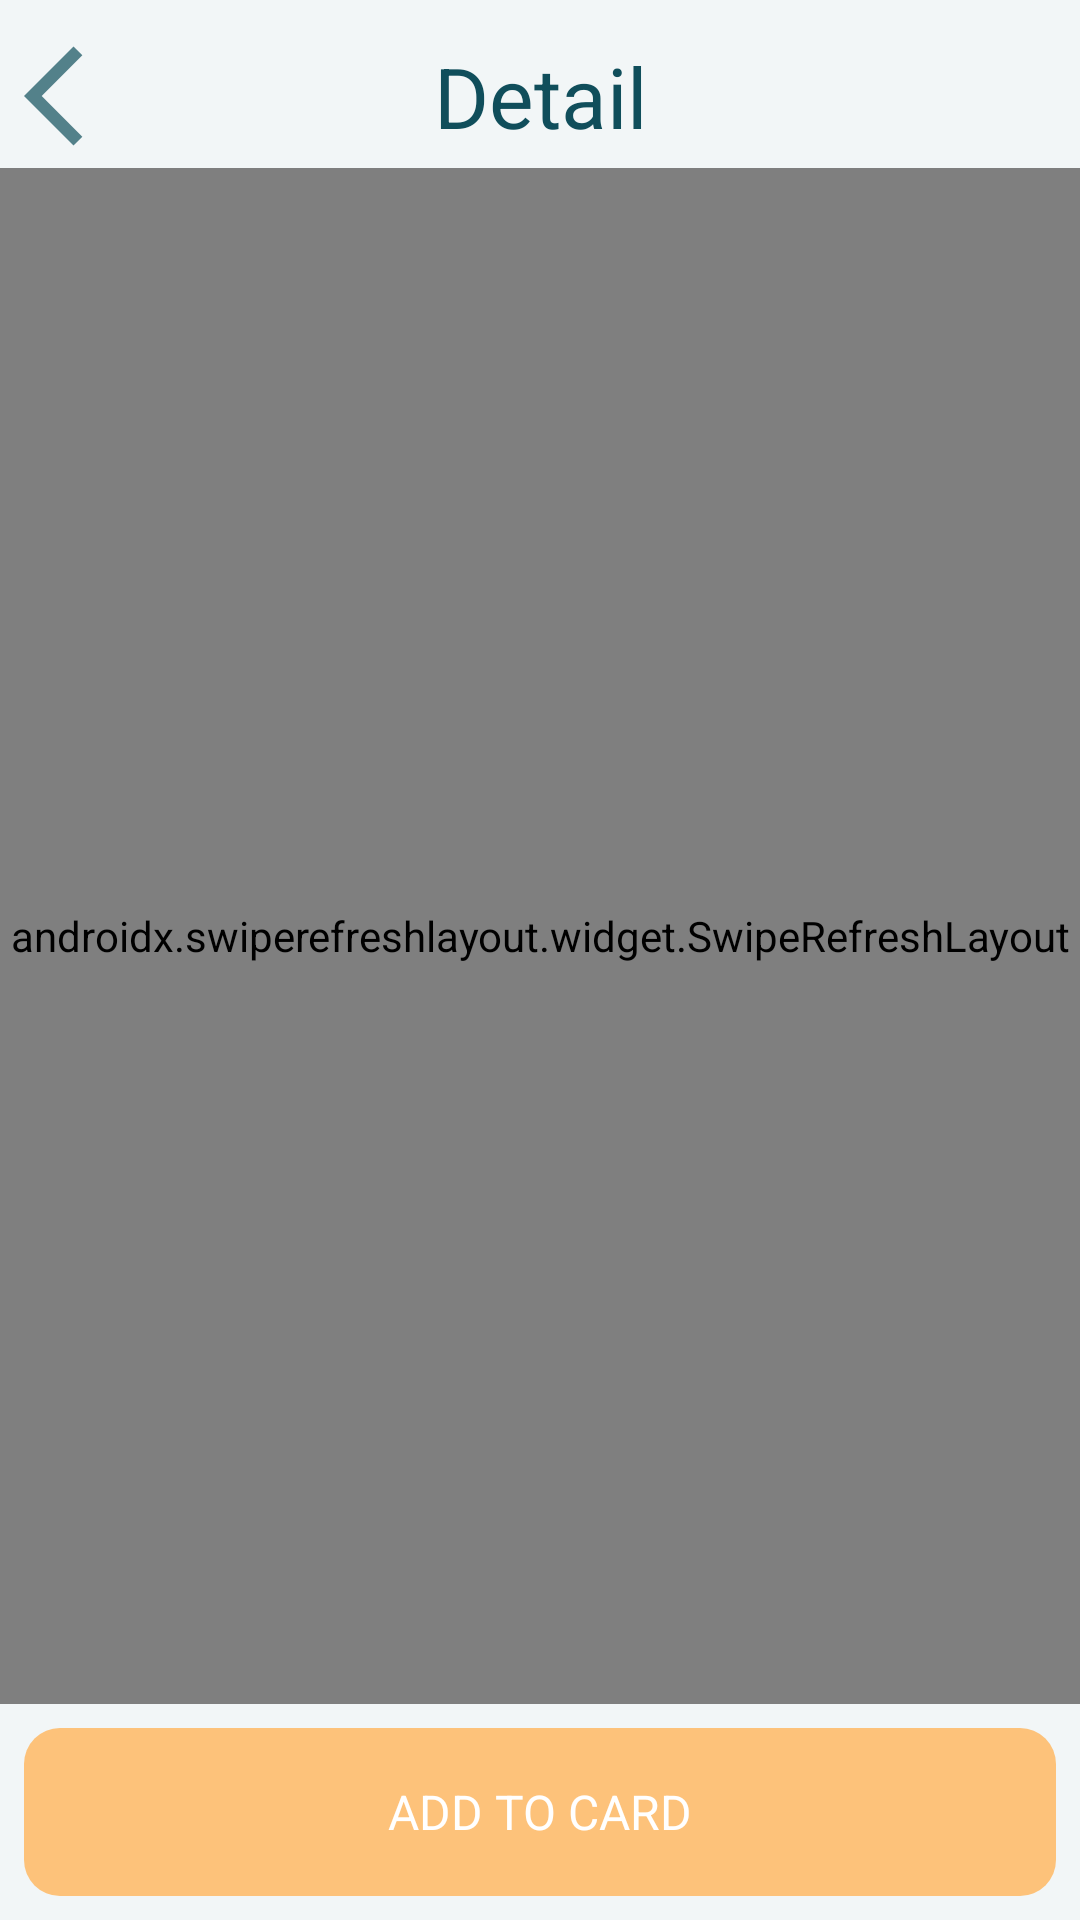

Where to tap for icons on this 1080w x 1920h app screen, as (x=x, y=y):
back: (x=53, y=96)
